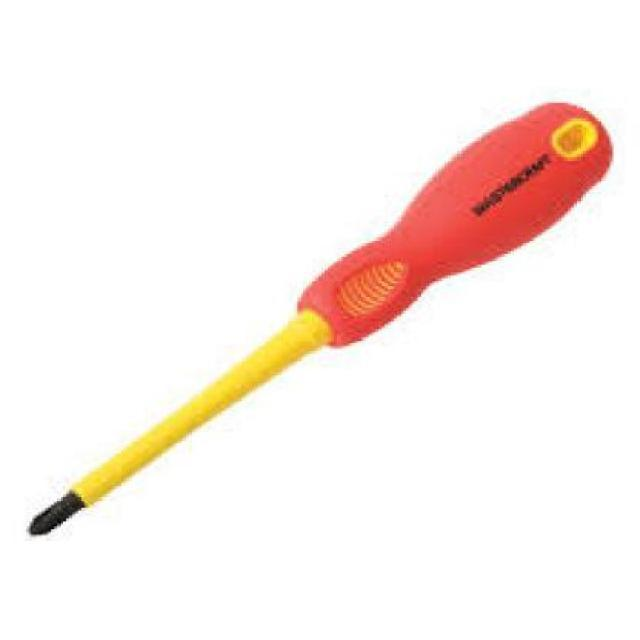screwdriver: (27, 102, 616, 538)
